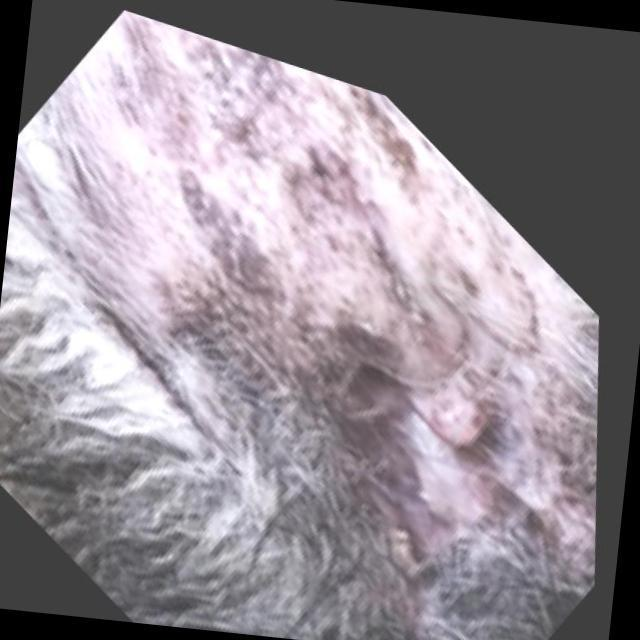fungal infection: (110, 38, 482, 246), (202, 244, 564, 358), (430, 482, 631, 589), (441, 397, 508, 448)
